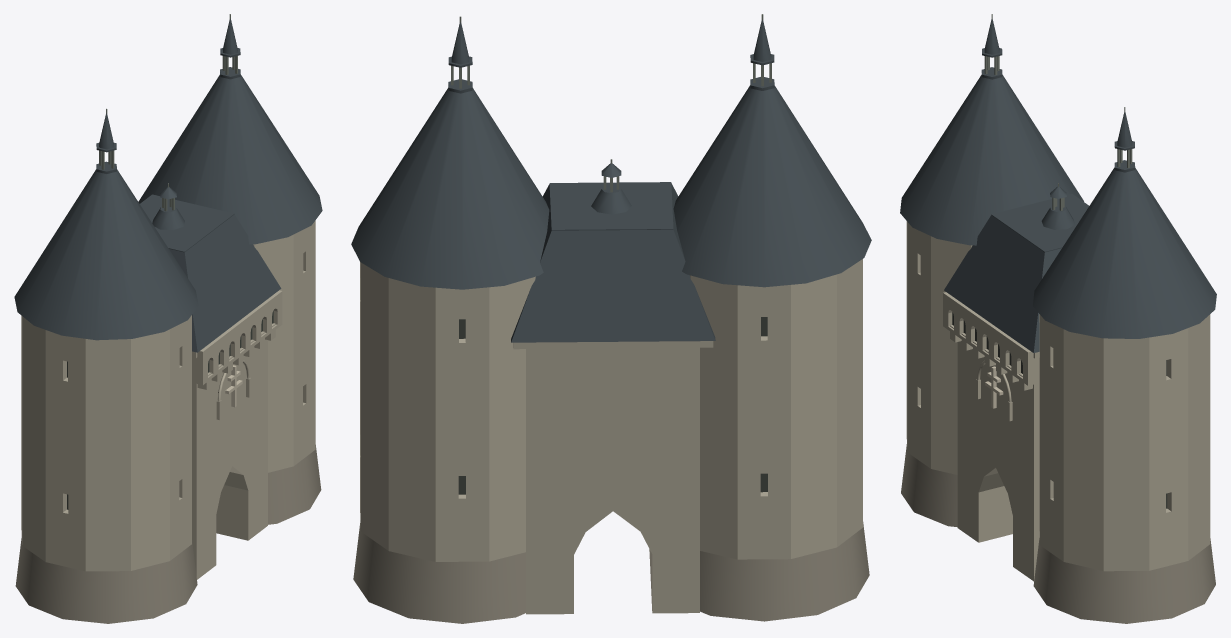
File: porte-de-la-craffe-far.glb
The picture shows the model from 3 angles, left to right: view 1: azimuth 30°, elevation 25°; view 2: azimuth 150°, elevation 25°; view 3: azimuth 270°, elevation 25°; orthographic projection. The views are drawn at different scales.
Visible parts, largest first — view 1: porte-de-la-craffe-0-stone, porte-de-la-craffe-0-roof, porte-de-la-craffe-0-base, porte-de-la-craffe-0-metal; view 2: porte-de-la-craffe-0-stone, porte-de-la-craffe-0-roof, porte-de-la-craffe-0-base; view 3: porte-de-la-craffe-0-stone, porte-de-la-craffe-0-roof, porte-de-la-craffe-0-base, porte-de-la-craffe-0-metal.
Part boxes in pixels (x1,y1,x2,y2): porte-de-la-craffe-0-stone: (21, 220, 315, 579); porte-de-la-craffe-0-roof: (14, 19, 322, 352); porte-de-la-craffe-0-base: (15, 445, 321, 623); porte-de-la-craffe-0-metal: (99, 14, 237, 211); porte-de-la-craffe-0-stone: (360, 259, 862, 614); porte-de-la-craffe-0-roof: (351, 19, 871, 342); porte-de-la-craffe-0-base: (353, 520, 869, 623); porte-de-la-craffe-0-stone: (906, 221, 1210, 581); porte-de-la-craffe-0-roof: (900, 19, 1216, 352); porte-de-la-craffe-0-base: (901, 444, 1215, 623); porte-de-la-craffe-0-metal: (984, 14, 1132, 210).
Size of the model in its own units: 21.83 by 28.5 by 17.12.
